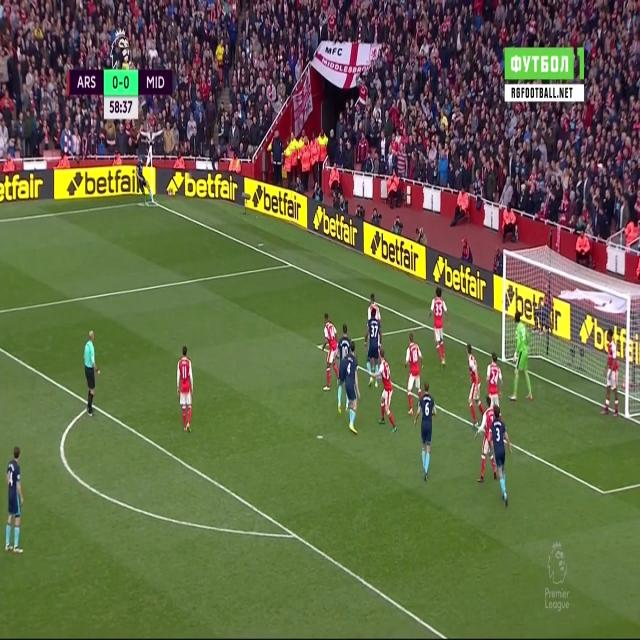Ball: (166, 185, 178, 201)
Goalkeeper: (507, 309, 536, 406)
Player: (2, 439, 29, 556), (414, 379, 440, 482), (489, 403, 513, 508), (474, 394, 500, 488), (597, 328, 622, 424), (376, 352, 401, 437), (428, 284, 452, 371), (175, 341, 195, 437), (466, 338, 486, 433), (404, 329, 425, 418), (335, 320, 352, 416), (318, 307, 337, 390), (347, 341, 363, 436), (484, 348, 506, 412), (365, 305, 380, 393), (134, 158, 153, 208)
Referee: (83, 324, 105, 421)
